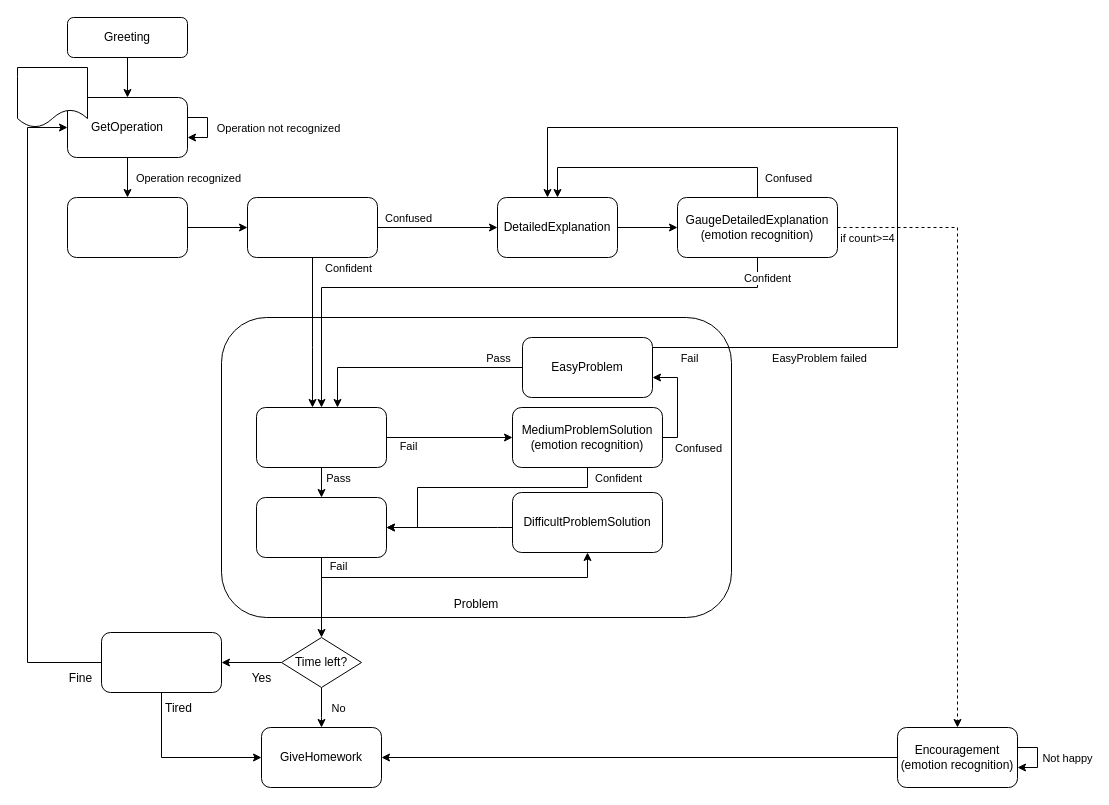
The diagram is 1109 pixels wide and 805 high, and some of its shapes have lost their labels. The centre of each missing label's shape, as x and y in pixels:
"BriefExplanation" belongs at pixel 127 227.
"Changes depending on entry path" belongs at pixel 52 97.
"DifficultProblem" belongs at pixel 321 527.
"EvaluateConditions (emotion recognition)" belongs at pixel 161 662.
"GaugeBriefExplanation (emotion recognition)" belongs at pixel 312 227.
"MediumProblem" belongs at pixel 321 437.
